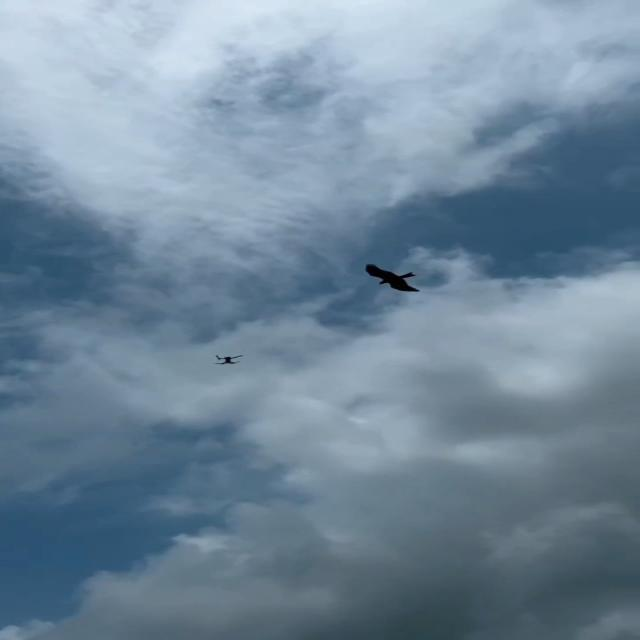bird: (364, 262, 418, 292)
drone: (213, 354, 243, 364)
